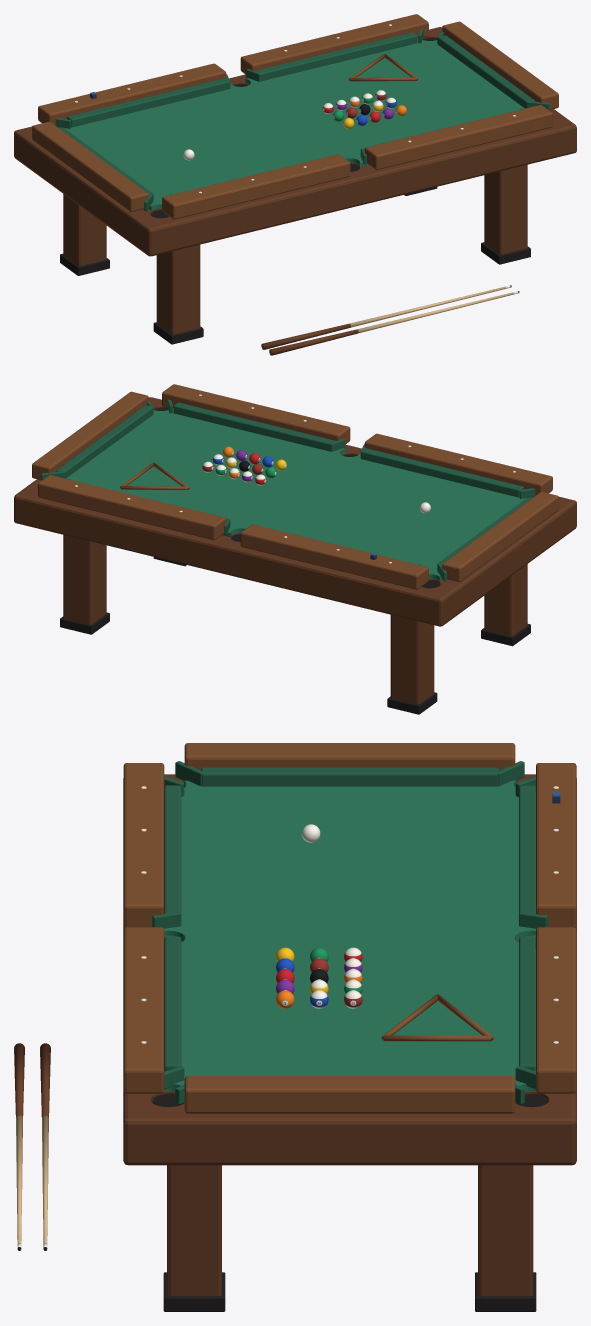
The model's file is billiards-scene.glb.
The picture shows the model from 3 angles, top to bottom: view 1: azimuth 30°, elevation 25°; view 2: azimuth 150°, elevation 25°; view 3: azimuth 270°, elevation 25°; orthographic projection. The views are drawn at different scales.
Visible parts, largest first — view 1: Table | slate and green cloth, Table | solid walnut cabinet, Long rail, Long rail.001, Table leg, Table leg.002, End rail, Long rail.003, Long rail.002, End rail.001, Table leg.001, Cushion.002 (+9 smaller); view 2: Table | slate and green cloth, Table | solid walnut cabinet, Long rail.003, Long rail.002, Table leg.001, Table leg.003, End rail, Long rail.001, Long rail, End rail.001, Table leg, Cushion (+5 smaller); view 3: Table | slate and green cloth, Table | solid walnut cabinet, End rail.001, End rail, Table leg.003, Table leg.002, Long rail.001, Long rail.003, Long rail, Long rail.002, Cushion.004, Cushion.001 (+10 smaller).
Part boxes in pixels (x1,y1,x2,y2): Table | slate and green cloth: (64, 38, 524, 210); Table | solid walnut cabinet: (14, 27, 576, 256); Long rail: (162, 154, 350, 219); Long rail.001: (364, 105, 552, 169); Table leg: (156, 244, 200, 334); Table leg.002: (484, 164, 527, 254); End rail: (32, 121, 148, 211); Long rail.003: (240, 14, 428, 74); Long rail.002: (38, 63, 226, 125); End rail.001: (442, 21, 558, 109); Table leg.001: (63, 194, 106, 266); Cushion.002: (67, 78, 229, 127); Table | slate and green cloth: (66, 408, 526, 580); Table | solid walnut cabinet: (14, 397, 576, 626); Long rail.003: (38, 475, 226, 540); Long rail.002: (240, 524, 428, 589); Table leg.001: (390, 615, 434, 704); Table leg.003: (63, 535, 106, 624); End rail: (442, 492, 558, 582); Long rail.001: (162, 384, 350, 444); Long rail: (364, 433, 552, 495); End rail.001: (32, 391, 148, 479); Table leg: (484, 564, 527, 636); Cushion: (361, 448, 523, 497); Table | slate and green cloth: (164, 780, 536, 1102); Table | solid walnut cabinet: (123, 774, 576, 1165); End rail.001: (184, 1076, 515, 1113); End rail: (184, 743, 515, 770); Table leg.003: (478, 1165, 533, 1296); Table leg.002: (167, 1165, 221, 1296); Long rail.001: (123, 927, 164, 1093); Long rail.003: (536, 927, 576, 1093); Long rail: (123, 763, 164, 927); Long rail.002: (536, 763, 576, 927); Cushion.004: (201, 767, 499, 786); Cushion.001: (164, 937, 181, 1071).
Size of the model in its own units: 2.54 by 0.882 by 1.74.
